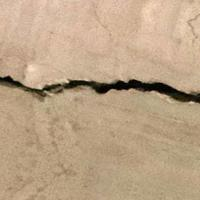crack: (0, 51, 199, 132)
